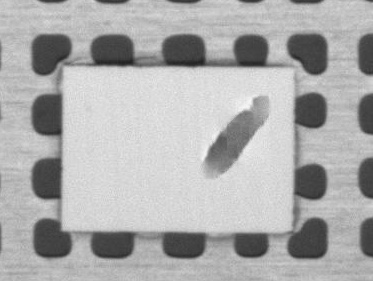DIE_INK: (263, 69, 361, 138)
